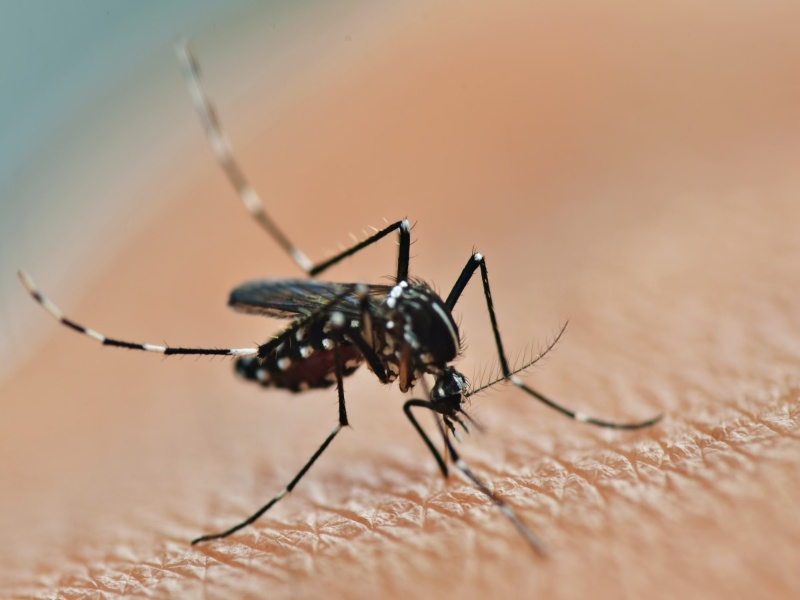dengue_mosquito: (113, 218, 572, 437)
